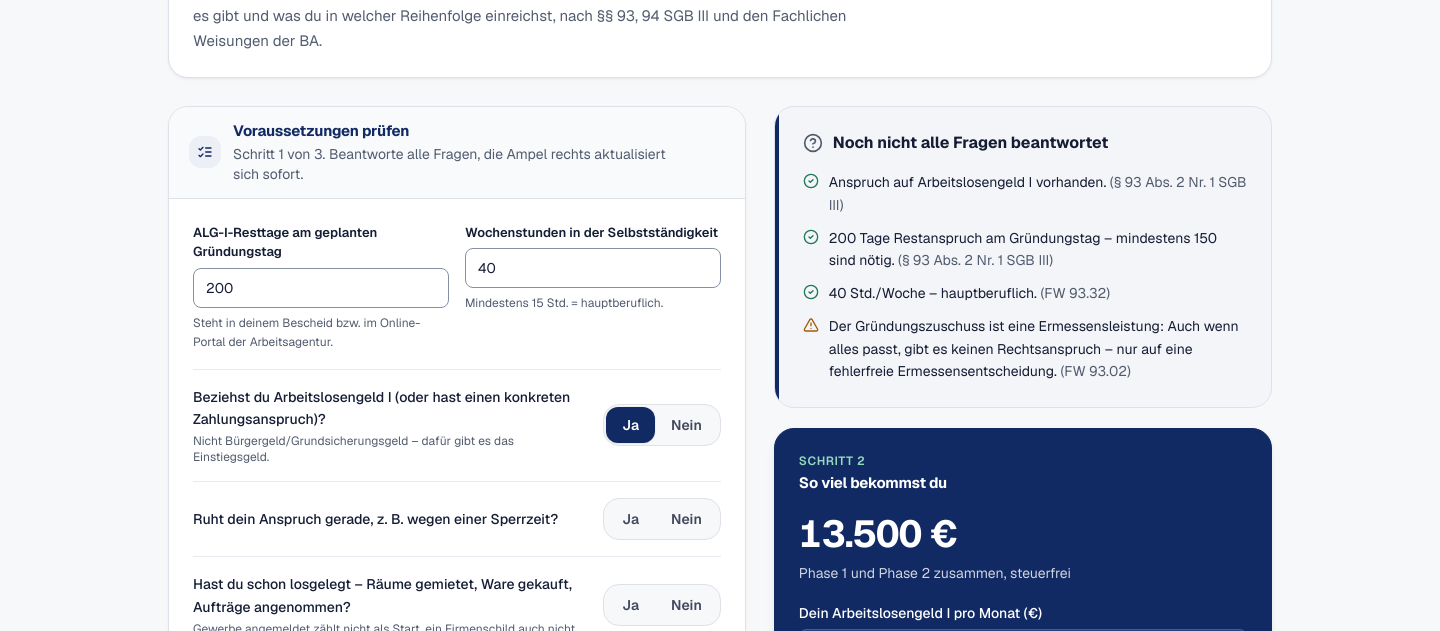
Gründungszuschuss-Check (Seite) › wird grün, wenn alles passt, und rot bei zu wenig Resttagen
Earlier steps of the test are not shown.
Click the 2nd button "Nein": click(686, 519) [655,501,718,537]
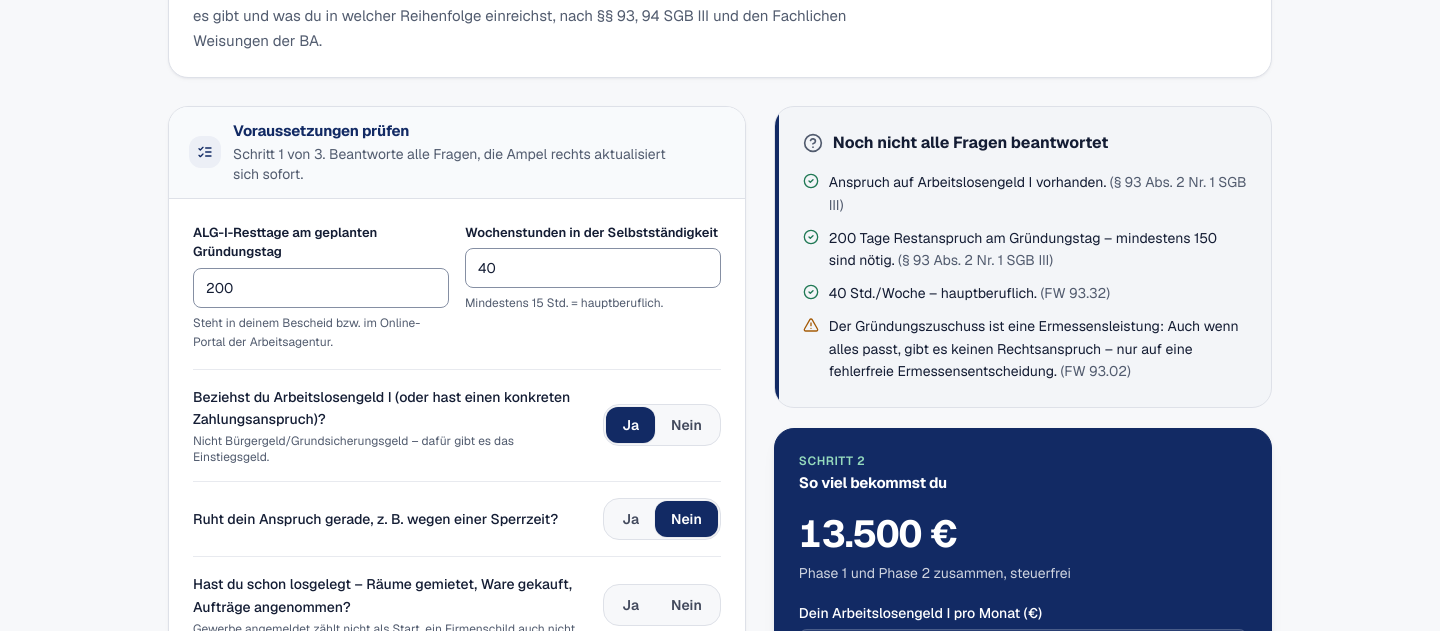
Click the 3rd button "Nein": click(686, 605) [655,587,718,623]
(page scrolled)
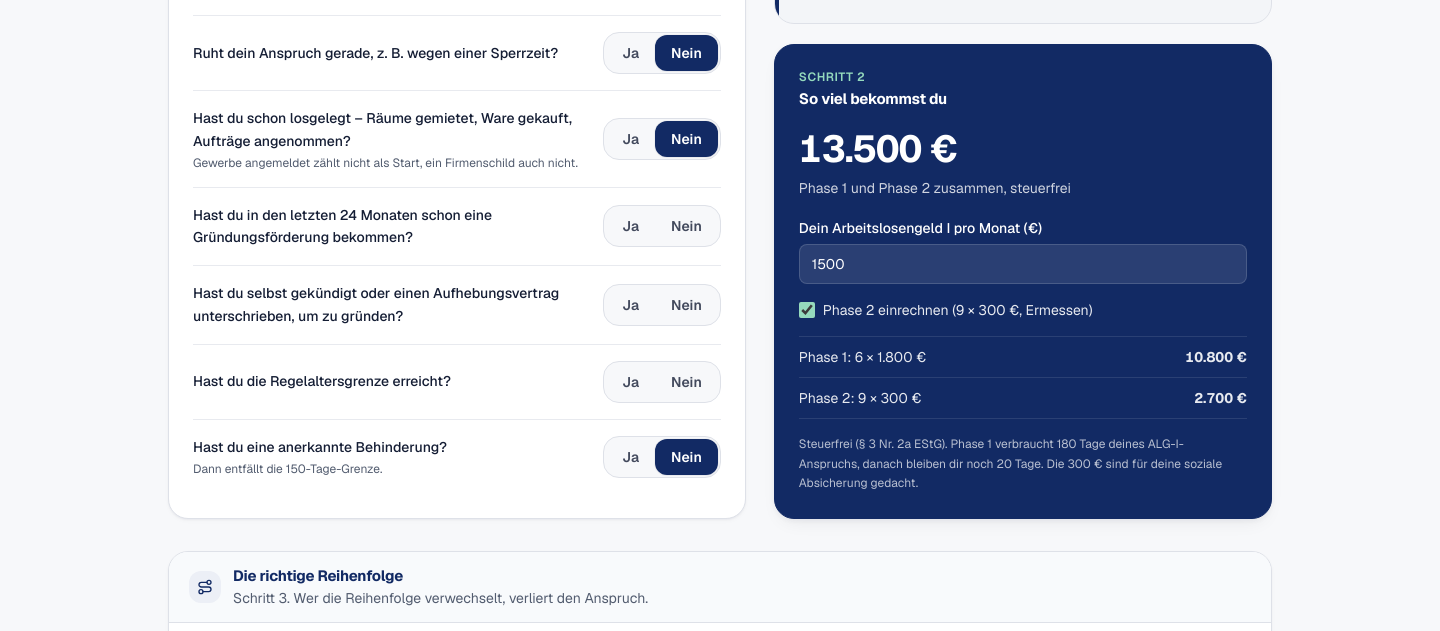
Click the 4th button "Nein": click(686, 226) [655,208,718,244]
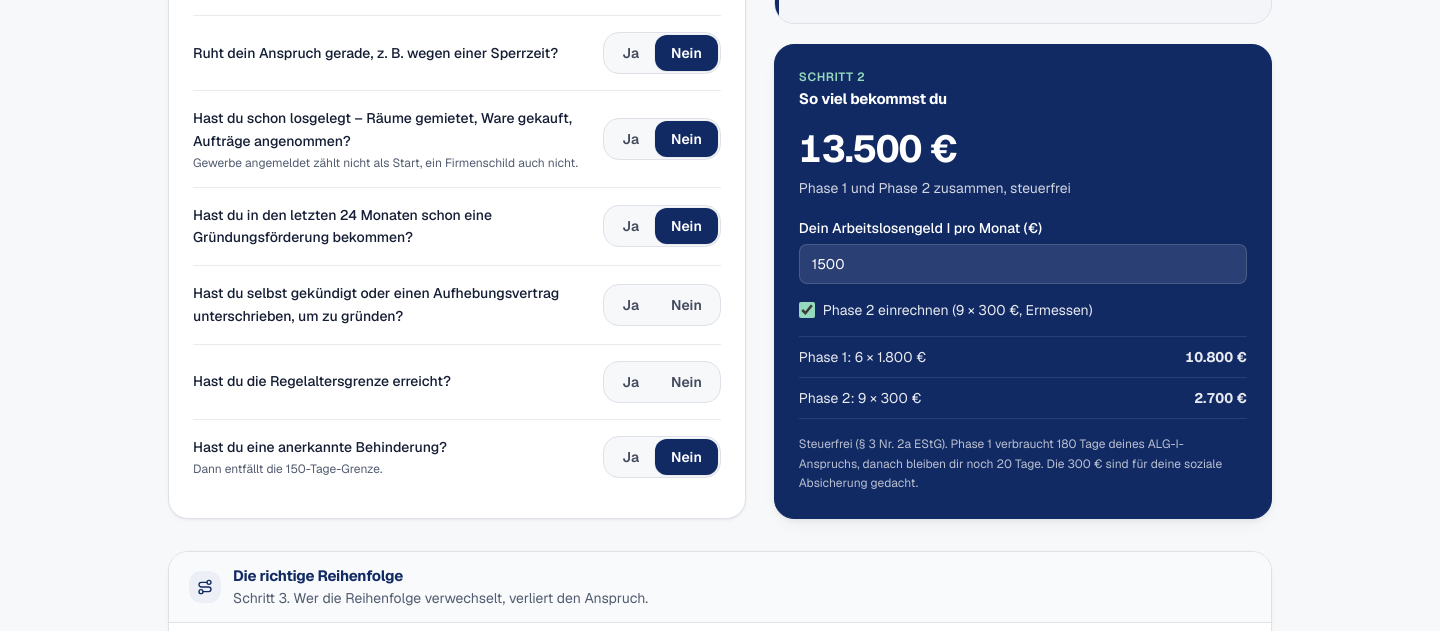
Click the 5th button "Nein": click(686, 305) [655,287,718,323]
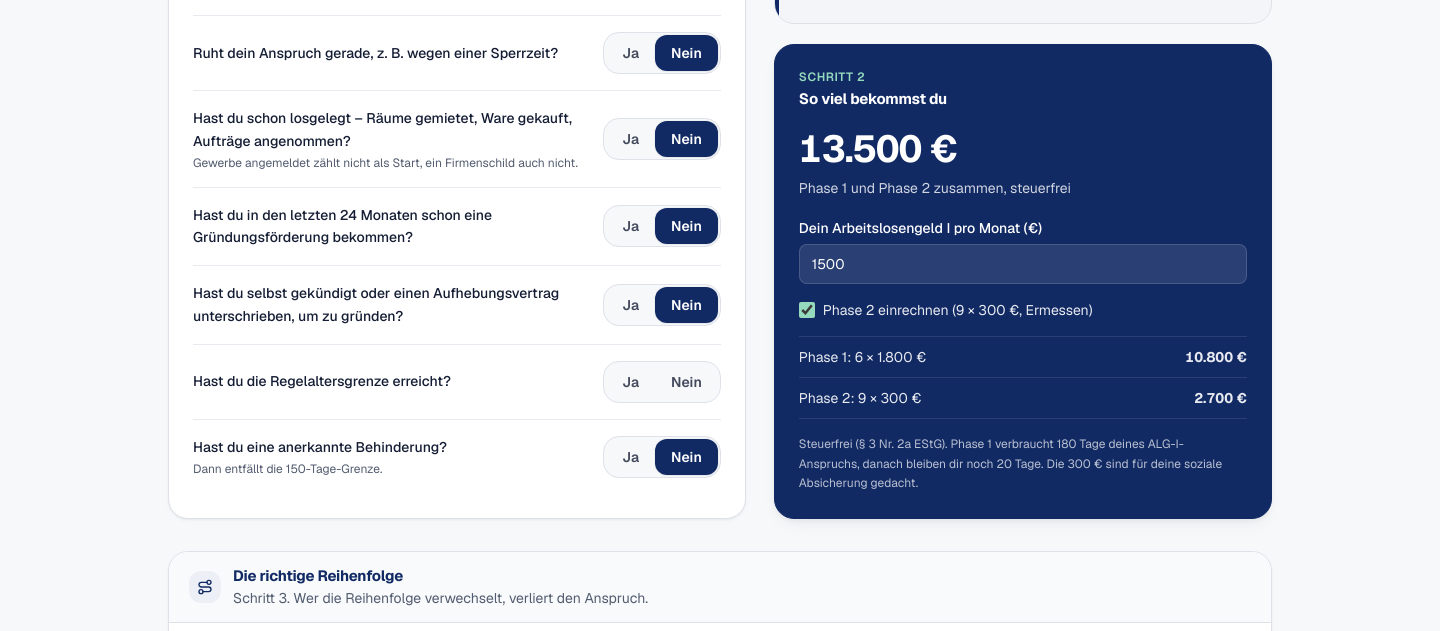
Click the button "Nein" in the row of "Hast du die Regelaltersgrenze erreicht?": click(686, 382) [655,364,718,400]
(page scrolled)
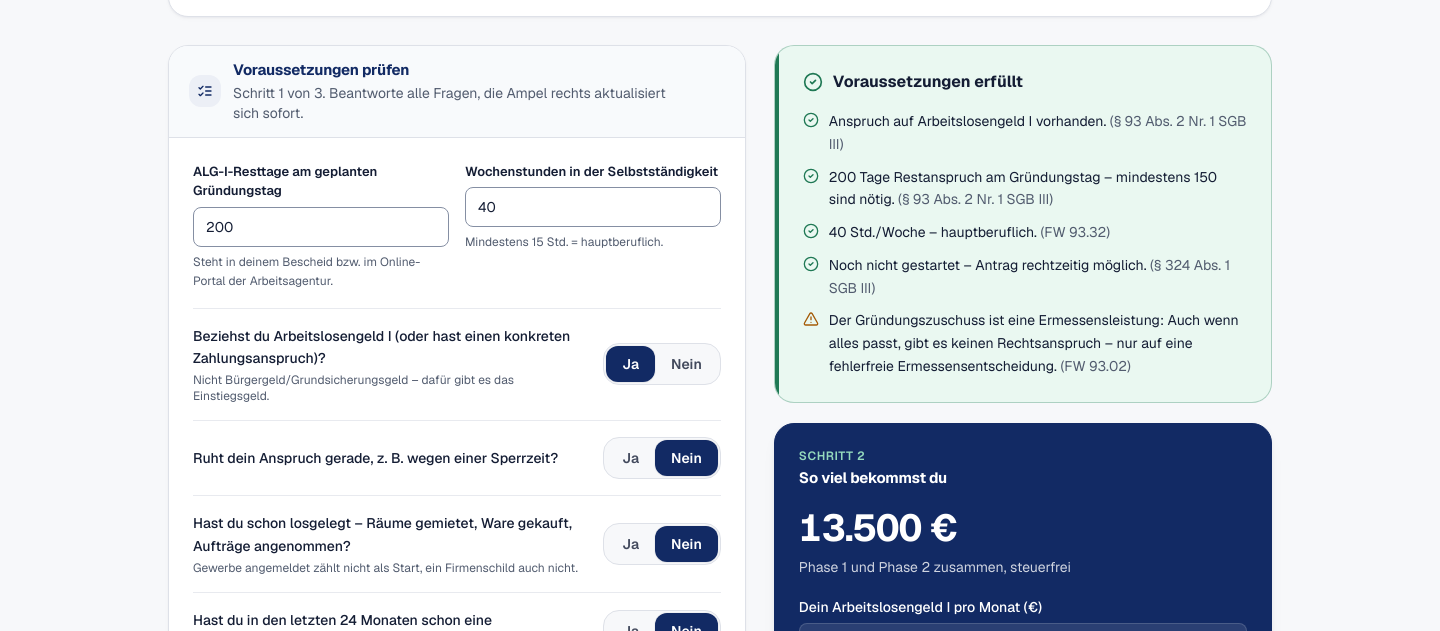
Now the text "Voraussetzungen erfüllt" is shown, box [833,70,1023,94]
Replace the text in the number field labelled "ALG-I-Resttage am geplanten Gründungstag" with "120": (321, 227) [193,207,449,247]
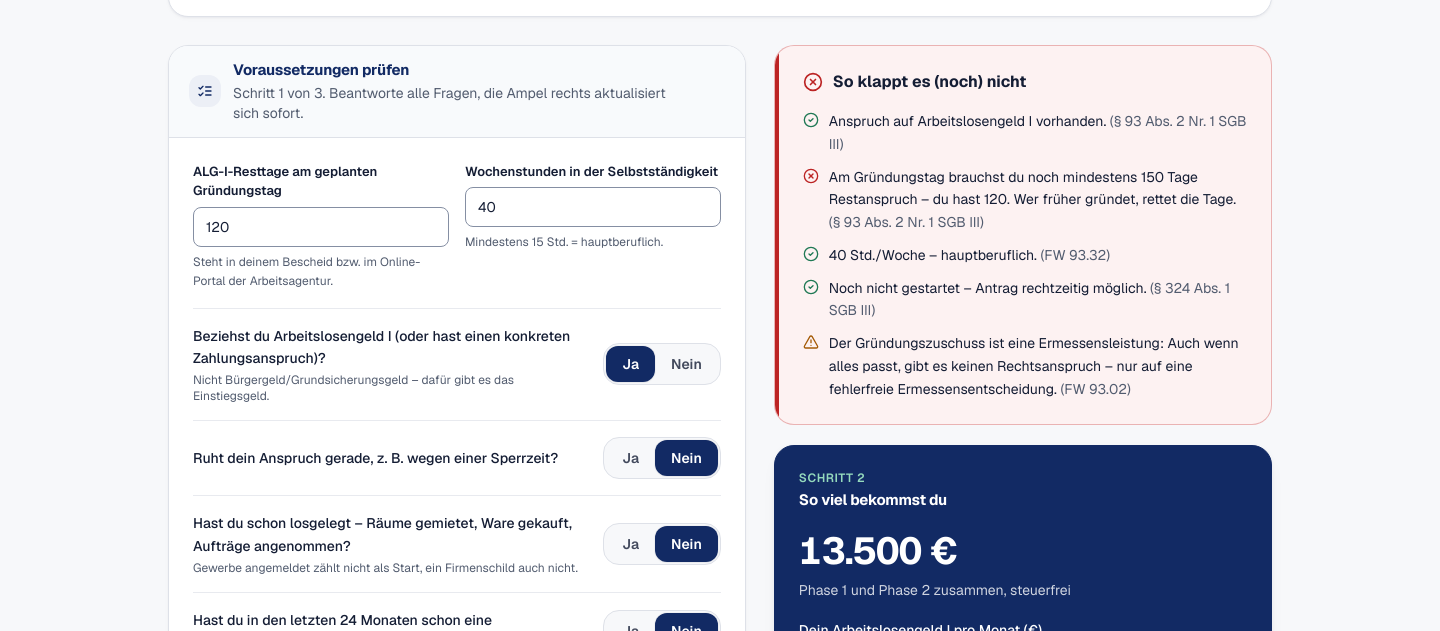
Now the text "So klappt es (noch) nicht" is shown, box [833,70,1026,94]
